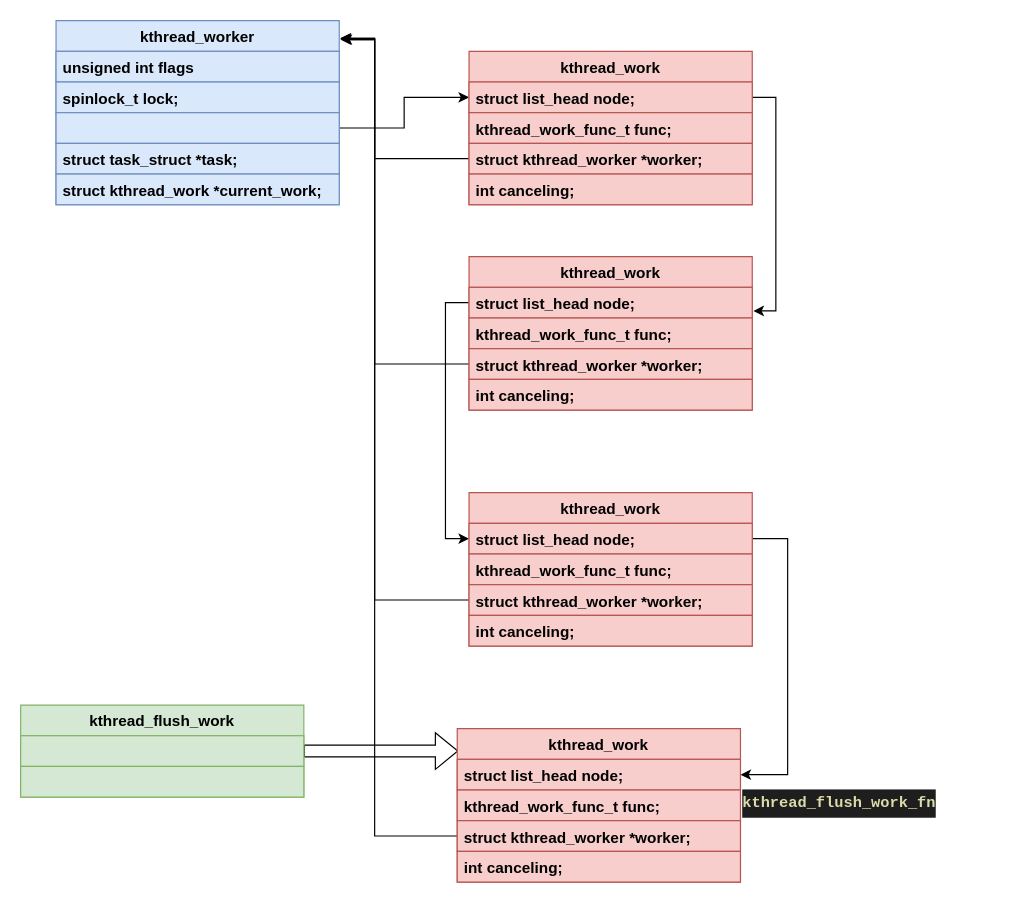
Image size: 1033x906. Some labels were removed from this diagram. The shapes that lost their labels are listed below. From the top down, each one's centre as x and y in pixels, then its label:
pixel 197 127: struct list_head work_list;
pixel 161 750: struct kthread_work work;
pixel 161 781: struct completion done;
